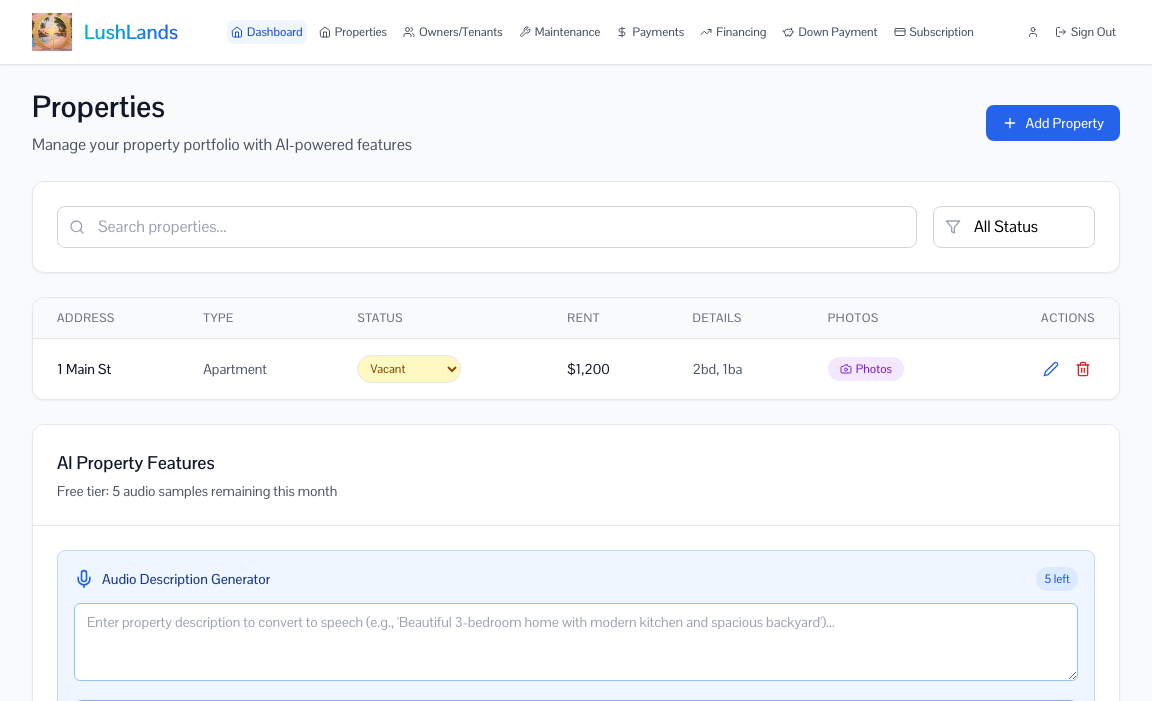
live dropdowns › shows an error toast from the app layout and reverts when a dropdown save throws
This screenshot has width=1152, height=701.
Select "Occupied" in the dropdown named "Status for 1 Main St" at (409, 369), box [357,355,461,383]
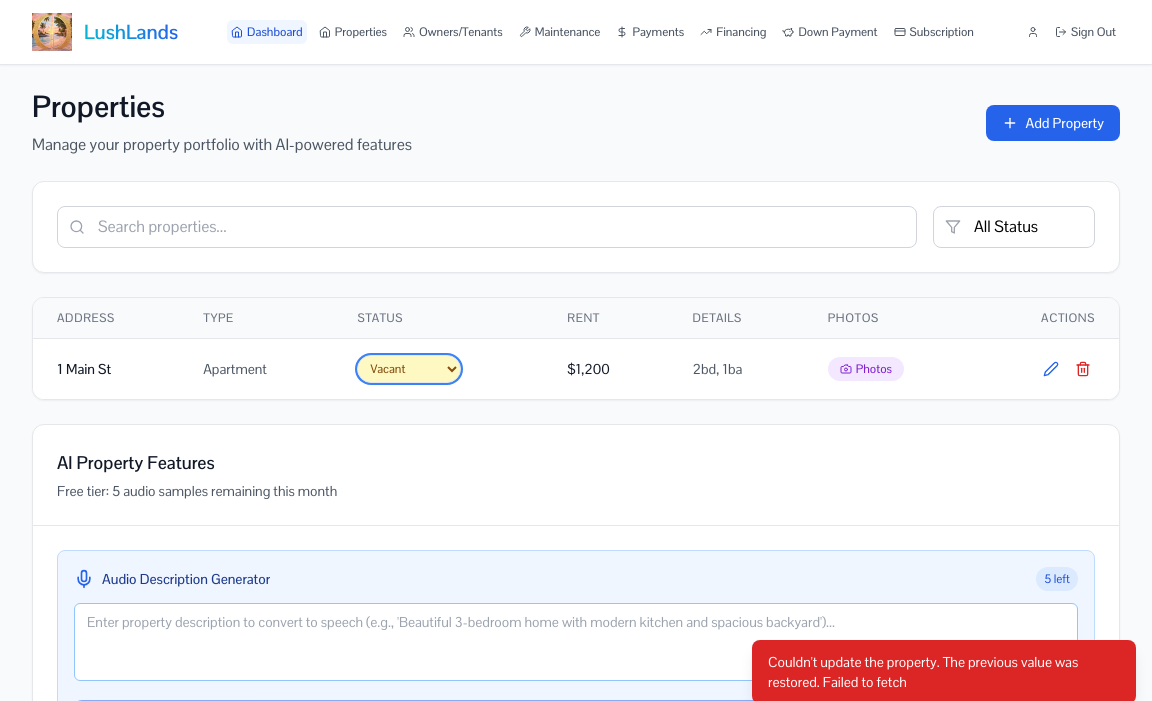
Expected: the message shows "previous value was restored", [768,653,1078,691]
Expected: the message shows "Failed to fetch", [768,653,1078,691]
